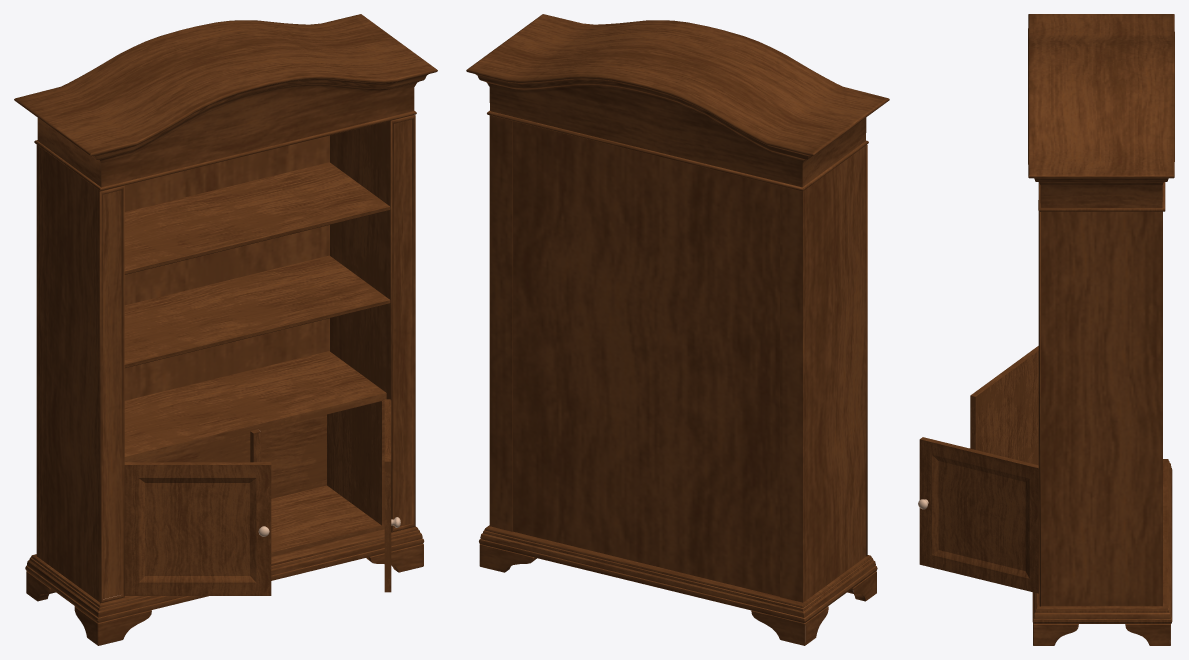
File: Furniture.obj
3 views of the same model, side by side, from view 1: azimuth 30°, elevation 25°; view 2: azimuth 150°, elevation 25°; view 3: azimuth 270°, elevation 25° (orthographic). The views are drawn at different scales.
Visible parts, largest first — view 1: BookShelf; view 2: BookShelf; view 3: BookShelf.
Part boxes in pixels (x1=…): BookShelf: x1=14, y1=14, x2=437, y2=645; BookShelf: x1=466, y1=14, x2=889, y2=645; BookShelf: x1=918, y1=14, x2=1174, y2=645.
Size of the model in its own units: 2.3 by 3.32 by 1.54.
